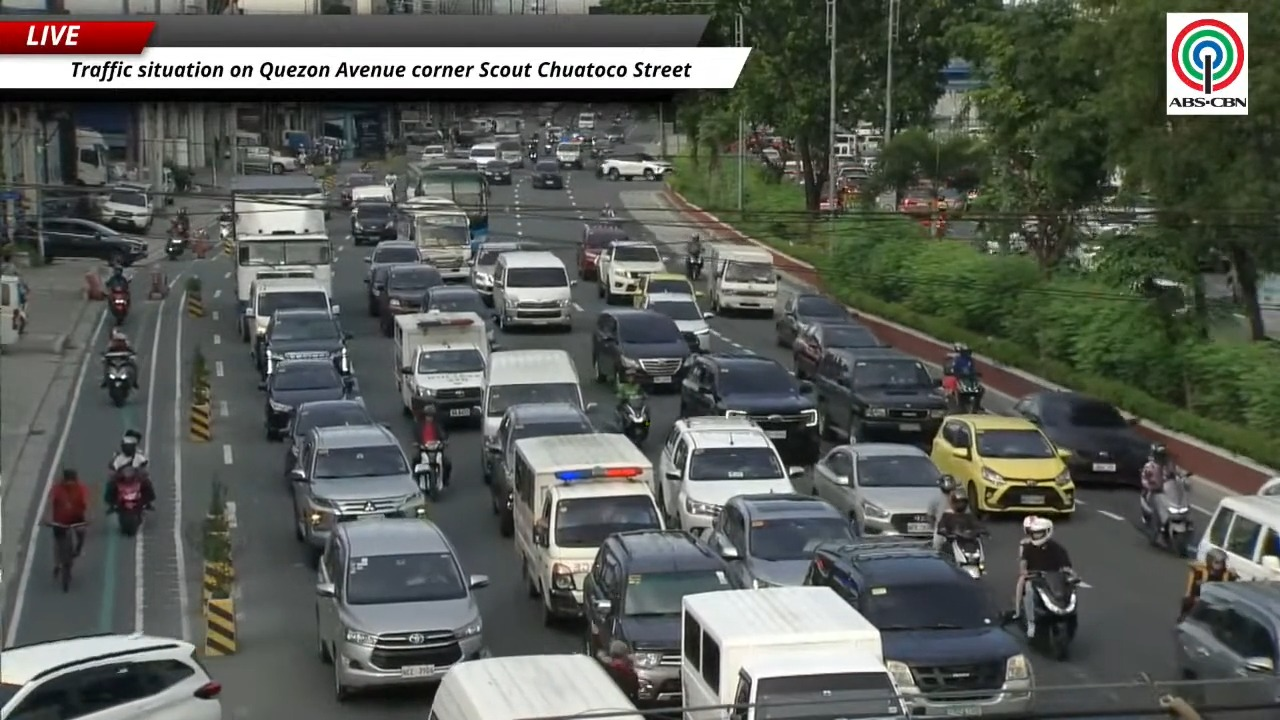bus: (405, 161, 489, 251), (230, 173, 330, 219)
car: (804, 538, 1034, 717), (316, 519, 488, 699), (583, 529, 739, 707), (0, 634, 222, 719), (289, 426, 425, 562), (655, 416, 804, 536), (679, 353, 819, 465), (483, 403, 595, 536), (930, 414, 1075, 516), (705, 493, 854, 588), (1174, 582, 1279, 715), (1014, 390, 1149, 486), (812, 348, 945, 442), (811, 443, 940, 536), (591, 308, 691, 390), (260, 360, 356, 441), (284, 399, 376, 476), (255, 308, 352, 376), (15, 218, 146, 266), (792, 322, 886, 378), (421, 284, 495, 348), (378, 264, 443, 336), (364, 240, 422, 316), (597, 241, 666, 304), (775, 293, 854, 348), (641, 293, 713, 351), (471, 242, 527, 306), (576, 221, 629, 280), (99, 183, 156, 233), (634, 272, 700, 306), (351, 200, 397, 245), (601, 153, 673, 180), (366, 264, 393, 317), (340, 173, 378, 207), (530, 159, 564, 189), (555, 142, 585, 169), (499, 136, 524, 168), (482, 159, 511, 184), (420, 144, 447, 161)
motorcycle: (1026, 570, 1080, 660), (1139, 472, 1194, 556), (943, 527, 987, 578), (113, 476, 145, 536), (415, 441, 444, 500), (617, 395, 650, 446), (104, 354, 132, 407), (947, 376, 984, 413), (108, 290, 130, 325), (165, 234, 185, 260), (685, 254, 703, 279), (219, 223, 231, 240), (527, 148, 540, 163), (543, 143, 553, 154)
truck: (681, 586, 907, 719), (507, 433, 662, 620), (233, 197, 332, 312), (393, 311, 489, 420), (400, 196, 471, 281), (704, 242, 778, 313), (76, 128, 111, 186), (237, 147, 297, 174)
